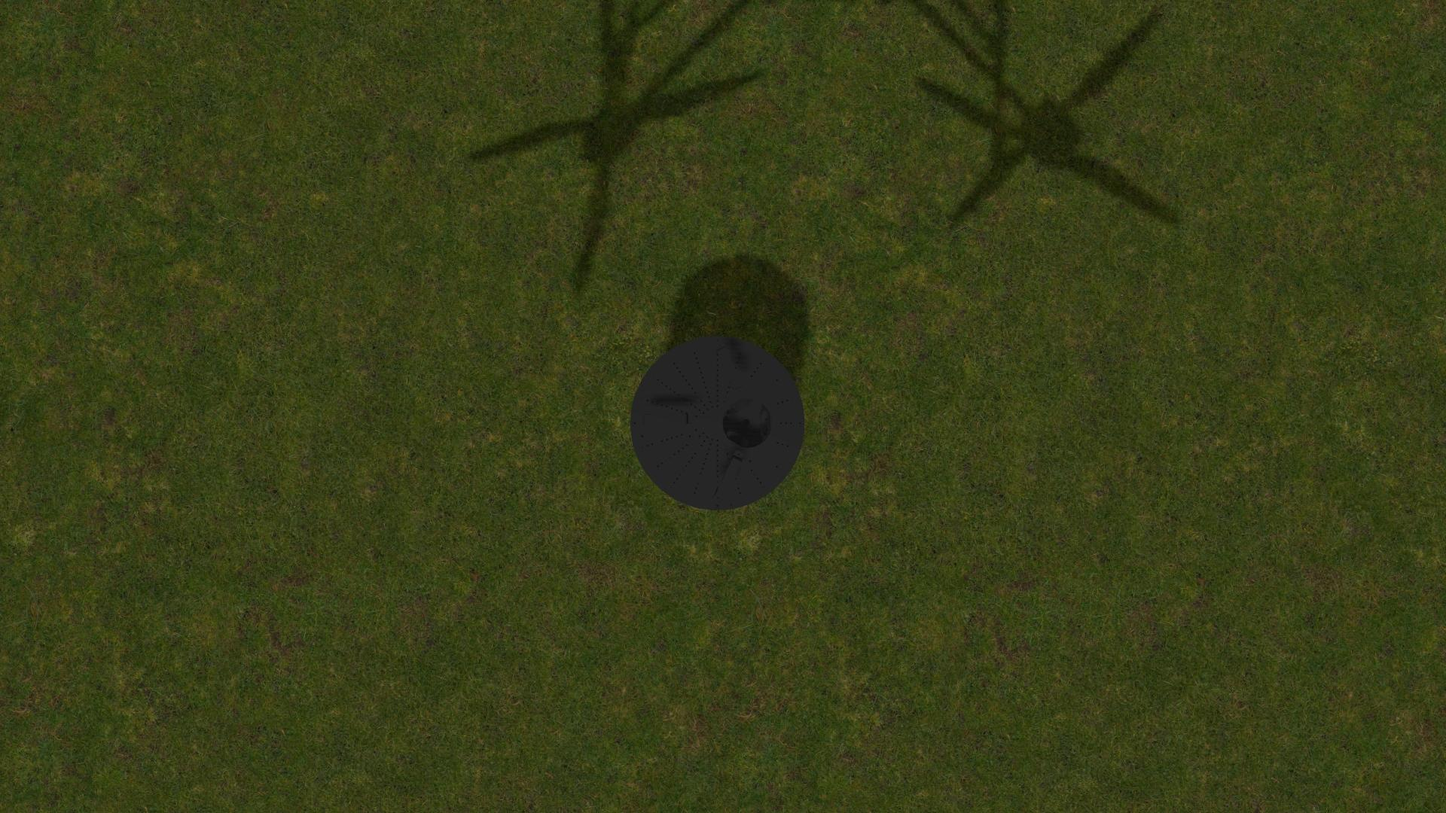alca: (713, 449, 744, 503), (714, 342, 745, 395), (640, 413, 694, 425)
armadilha: (630, 336, 805, 511)
